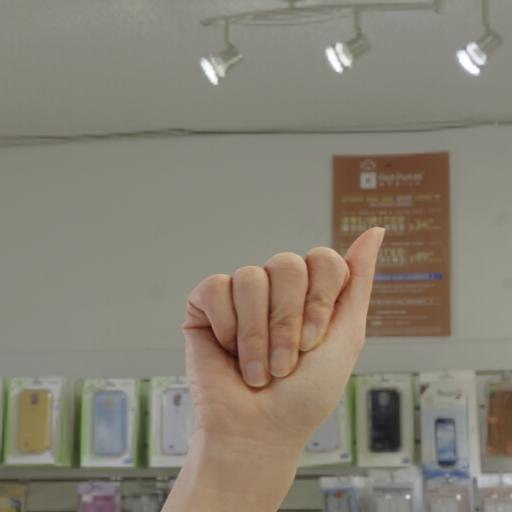A: (141, 196, 411, 460)
